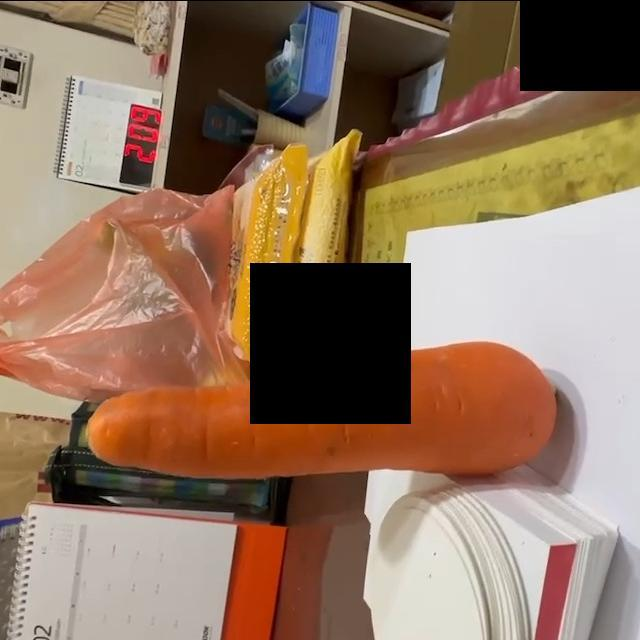carrot: (84, 338, 562, 481)
